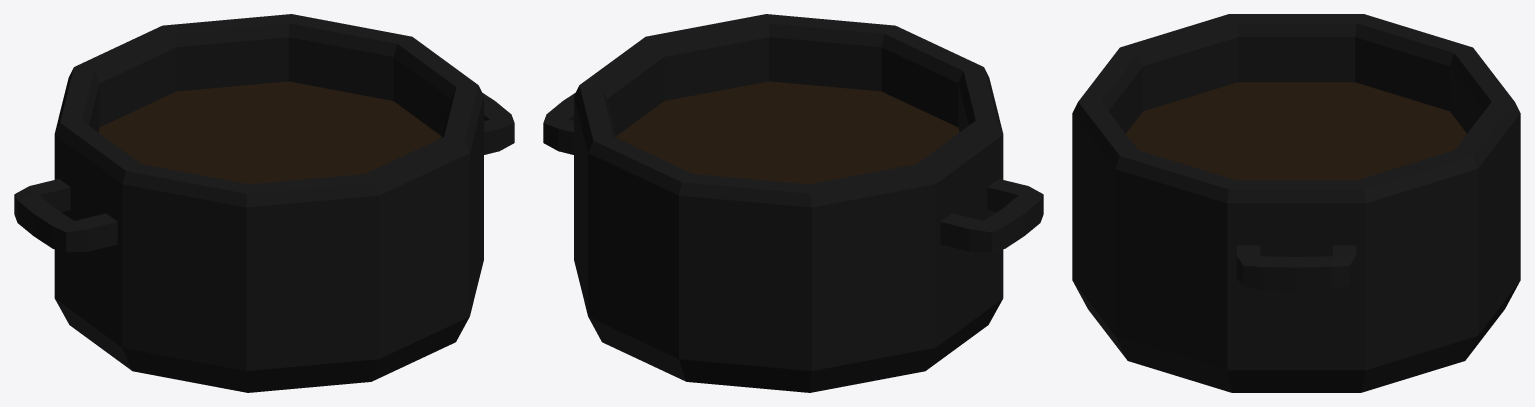
Rendered from CookingPot_Soup.obj.
The picture shows the model from 3 angles, left to right: view 1: azimuth 30°, elevation 25°; view 2: azimuth 150°, elevation 25°; view 3: azimuth 270°, elevation 25°; orthographic projection. The views are drawn at different scales.
Parts seen in each view (by area): view 1: CookingPot_Soup_Cylinder.015; view 2: CookingPot_Soup_Cylinder.015; view 3: CookingPot_Soup_Cylinder.015.
Part boxes in pixels (left/top/right/bottom): CookingPot_Soup_Cylinder.015: left=14, top=14, right=514, bottom=392; CookingPot_Soup_Cylinder.015: left=543, top=14, right=1043, bottom=392; CookingPot_Soup_Cylinder.015: left=1072, top=14, right=1520, bottom=392.
Bounding box in the file's own units: 2.42 × 1.08 × 1.99.
